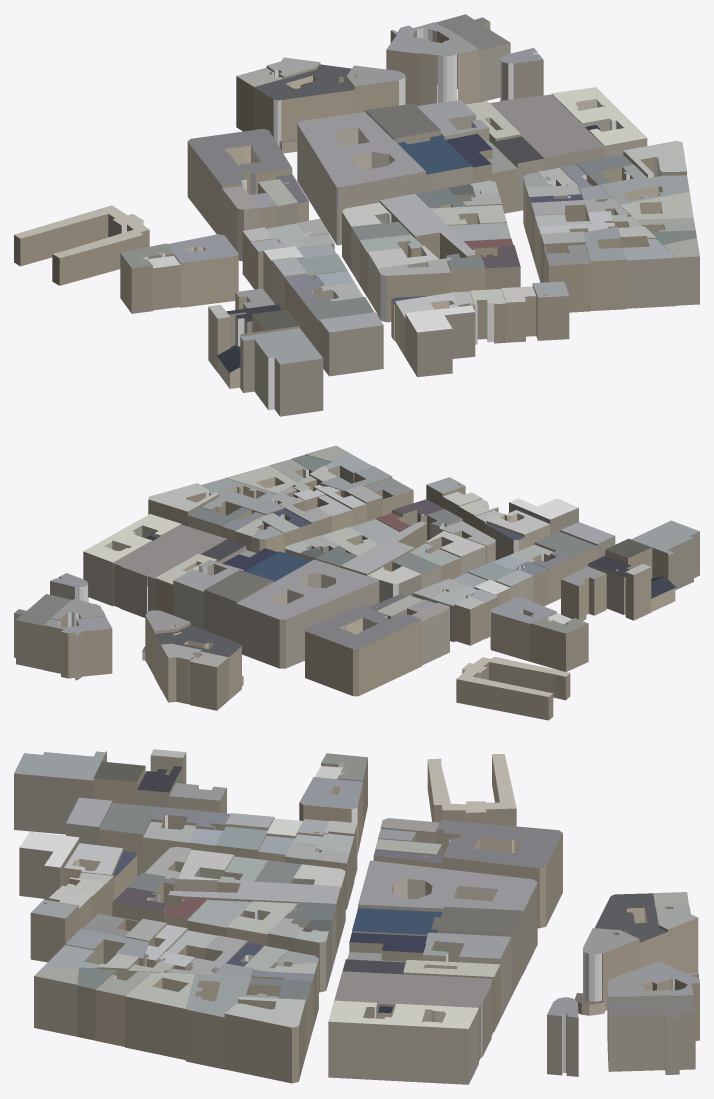
The picture shows the model from 3 angles, top to bottom: view 1: azimuth 30°, elevation 25°; view 2: azimuth 150°, elevation 25°; view 3: azimuth 270°, elevation 25°; orthographic projection. The views are drawn at different scales.
Parts seen in each view (by area): view 1: tuile; view 2: tuile; view 3: tuile.
Boxes of the visible parts, x1,y1,x2,y2 form: tuile: [14, 14, 699, 416]; tuile: [14, 445, 699, 720]; tuile: [14, 749, 699, 1084].
Size of the model in its own units: 284 by 29.02 by 273.
